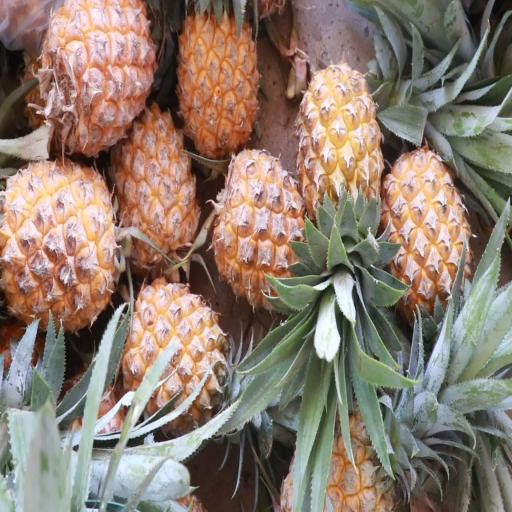Pineapple - v8 v1: (0, 150, 129, 333), (34, 0, 157, 163), (120, 274, 235, 432), (294, 62, 386, 258), (376, 144, 471, 332), (208, 144, 310, 313), (111, 102, 201, 279), (174, 0, 262, 173)
